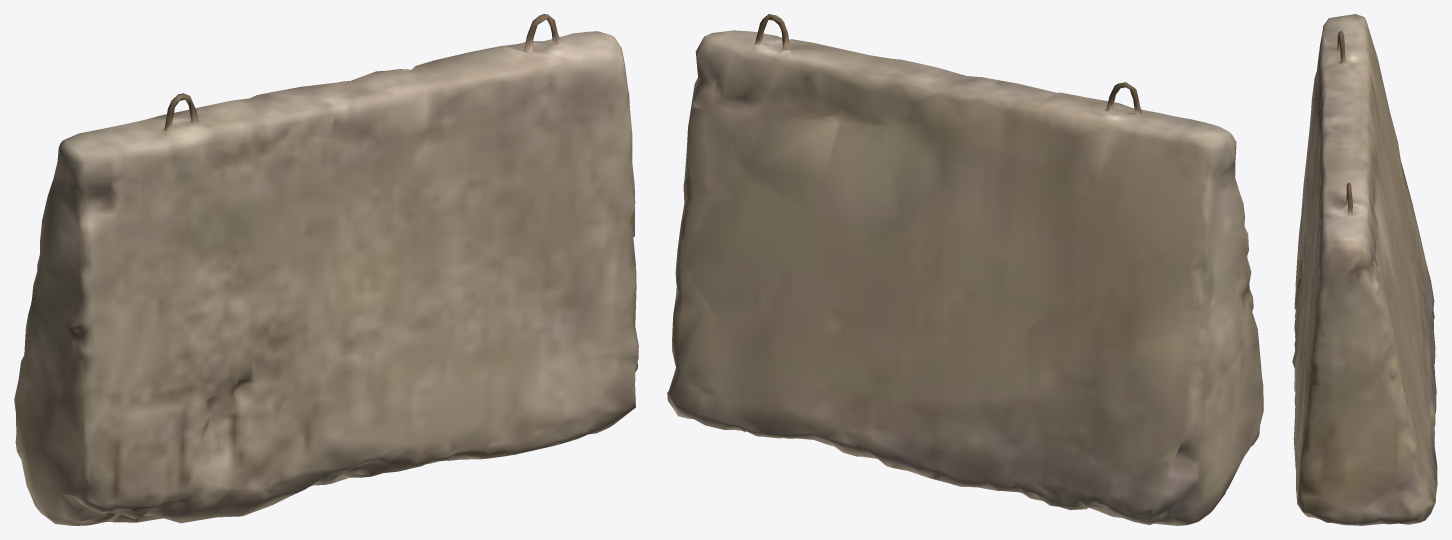
The model's file is concrete_road_barrier_02_lod2.glb.
The picture shows the model from 3 angles, left to right: view 1: azimuth 30°, elevation 25°; view 2: azimuth 150°, elevation 25°; view 3: azimuth 270°, elevation 25°; orthographic projection. The views are drawn at different scales.
Parts seen in each view (by area): view 1: concrete_road_barrier_02; view 2: concrete_road_barrier_02; view 3: concrete_road_barrier_02.
Boxes of the visible parts, left/top/right/bottom form: concrete_road_barrier_02: left=14, top=14, right=638, bottom=525; concrete_road_barrier_02: left=667, top=14, right=1263, bottom=525; concrete_road_barrier_02: left=1292, top=14, right=1437, bottom=525.
Bounding box in the file's own units: 1.56 × 1.11 × 0.4418.
1 material, 1 textured.
